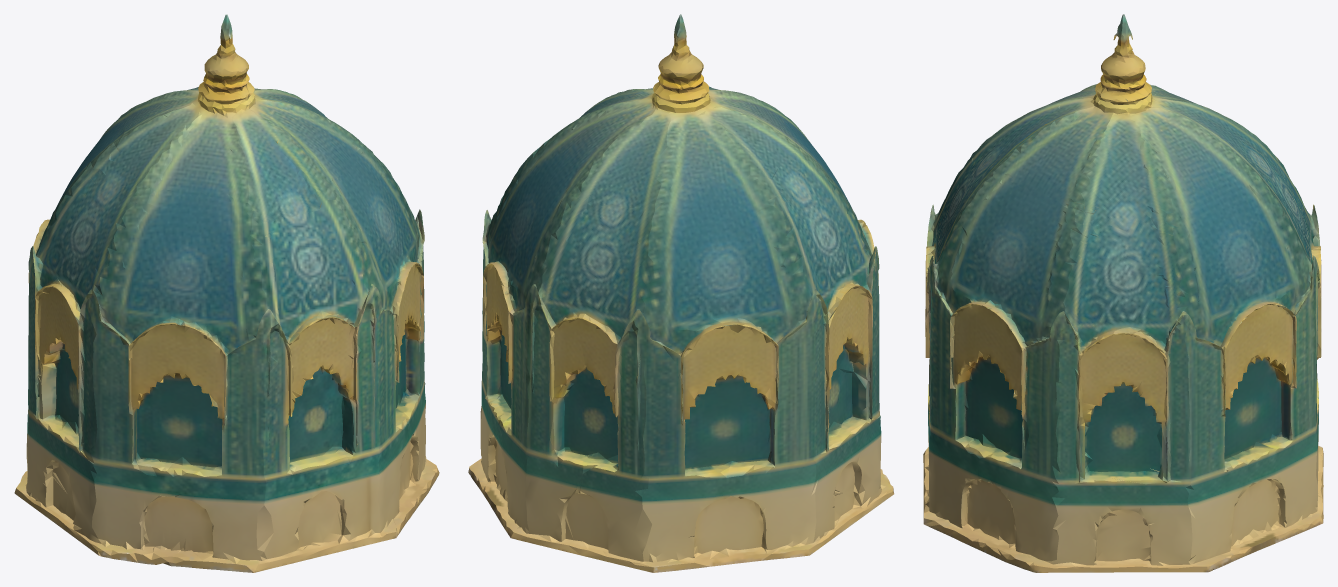
The model's file is islamic_dome.glb.
3 views of the same model, side by side, from view 1: azimuth 30°, elevation 25°; view 2: azimuth 150°, elevation 25°; view 3: azimuth 270°, elevation 25° (orthographic).
Visible parts, largest first — view 1: islamic_dome; view 2: islamic_dome; view 3: islamic_dome.
Part boxes in pixels (left/top/right/bottom): islamic_dome: left=14, top=14, right=439, bottom=572; islamic_dome: left=468, top=14, right=894, bottom=572; islamic_dome: left=923, top=14, right=1323, bottom=572.
Bounding box in the file's own units: 1.44 × 1.9 × 1.44.
1 material, 1 textured.
